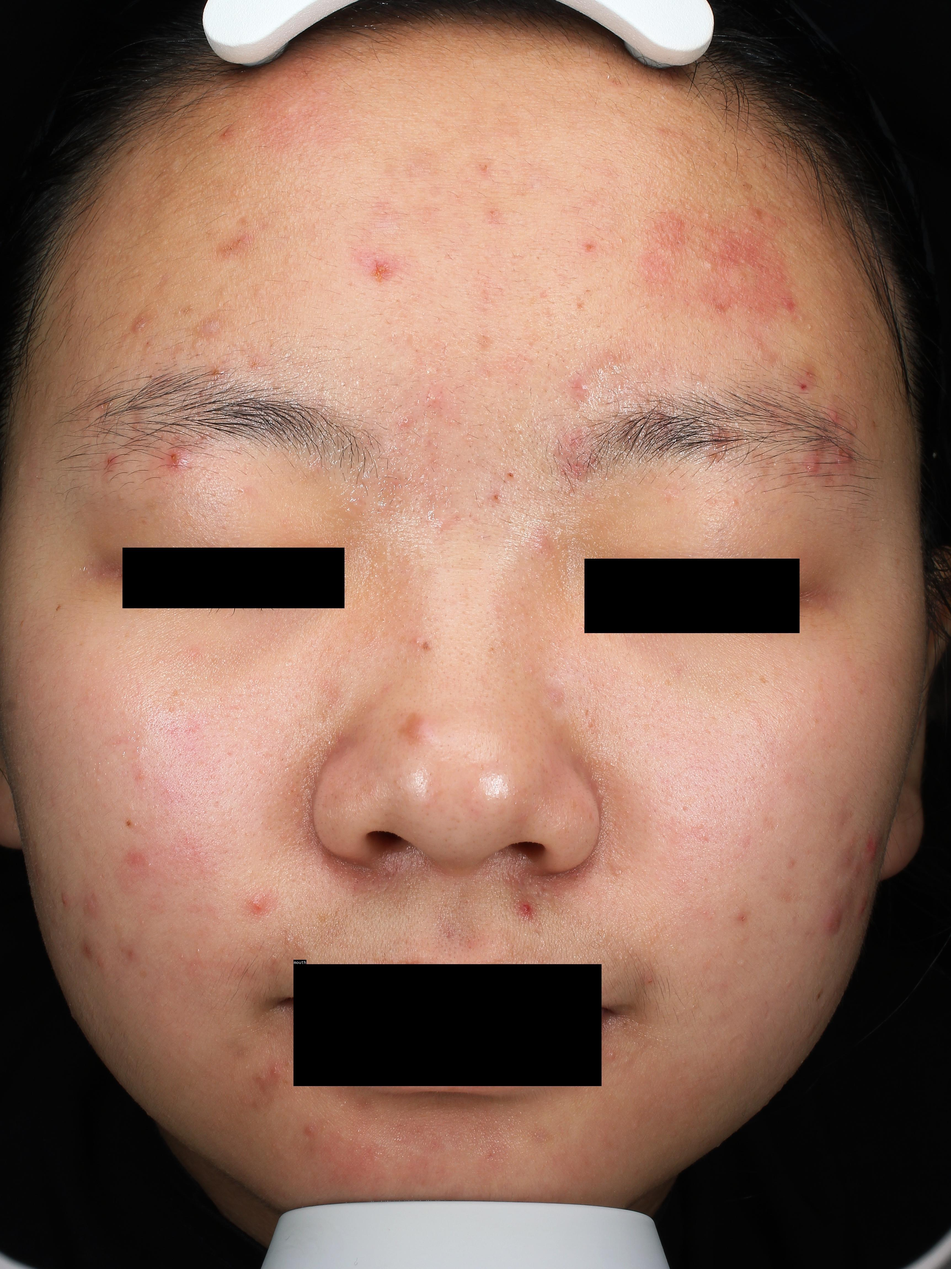atrophic_scar: (605, 864, 630, 879), (727, 1033, 747, 1046), (441, 251, 455, 264), (763, 1006, 773, 1020), (682, 806, 692, 815), (539, 292, 548, 299), (258, 769, 265, 775), (762, 762, 767, 768)
closed_comedo: (425, 367, 437, 377), (286, 257, 295, 266), (191, 341, 201, 349), (255, 288, 265, 296), (270, 955, 278, 964), (168, 705, 176, 713), (738, 960, 746, 967), (219, 289, 228, 295), (745, 227, 752, 234), (704, 211, 710, 218), (528, 667, 535, 673), (696, 823, 703, 829), (579, 625, 585, 631), (701, 833, 708, 838), (712, 499, 717, 505), (808, 325, 813, 331), (140, 920, 145, 925), (619, 237, 623, 242), (196, 948, 200, 953), (287, 937, 290, 942), (180, 954, 183, 958)
hypertrophic_scar: (530, 882, 543, 892), (542, 889, 553, 897)
melasma: (661, 678, 672, 691), (758, 675, 772, 684)
nevus: (815, 989, 824, 1001), (422, 641, 430, 651), (124, 819, 132, 828), (19, 620, 25, 630), (490, 646, 495, 653), (56, 604, 61, 611)
nodule: (824, 904, 842, 936)
open_comedo: (260, 752, 267, 759), (391, 333, 398, 340), (686, 785, 690, 790), (671, 494, 675, 498)
other: (169, 155, 183, 172)
papule: (405, 715, 432, 740), (369, 259, 391, 281), (518, 900, 537, 923), (805, 455, 820, 476), (867, 841, 879, 862), (840, 449, 853, 466), (252, 896, 266, 911), (856, 900, 867, 917), (575, 457, 590, 469), (86, 899, 95, 914), (400, 415, 411, 427), (253, 1073, 267, 1082), (578, 382, 588, 393), (304, 1126, 314, 1137), (583, 242, 594, 252), (270, 1064, 279, 1075), (705, 262, 717, 270), (97, 957, 105, 969), (429, 393, 439, 402), (488, 209, 497, 219), (829, 411, 838, 420), (222, 129, 231, 137), (61, 895, 68, 904), (493, 493, 500, 501), (753, 210, 760, 218), (608, 1053, 615, 1060), (853, 421, 858, 430), (784, 300, 790, 306), (732, 499, 737, 505), (415, 639, 420, 644)
pustule: (168, 451, 187, 467), (132, 318, 148, 334)
